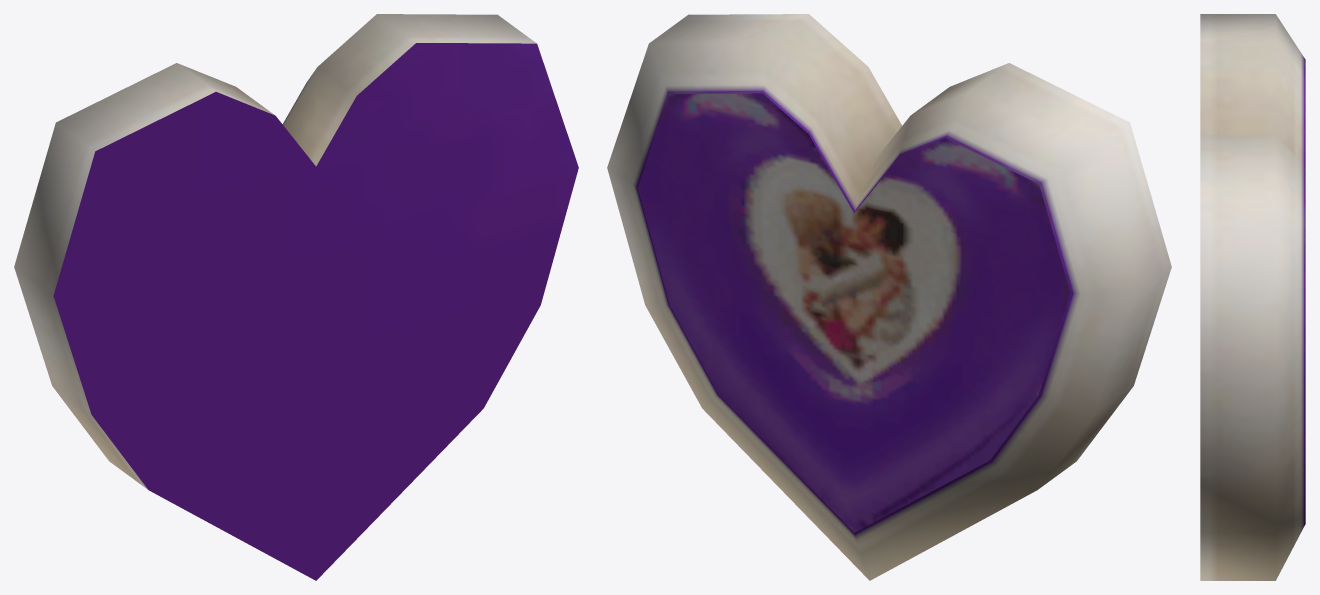
The model's file is furni_0200134_01.FBX.
3 renders of one model, left to right at view 1: azimuth 30°, elevation 25°; view 2: azimuth 150°, elevation 25°; view 3: azimuth 270°, elevation 25°, orthographic. The views are drawn at different scales.
Visible parts, largest first — view 1: furni_0200134_01; view 2: furni_0200134_01; view 3: furni_0200134_01.
Part boxes in pixels (box(x1,y1,x2,y2)): furni_0200134_01: box(14, 14, 578, 580); furni_0200134_01: box(607, 14, 1171, 580); furni_0200134_01: box(1200, 14, 1305, 580).
Size of the model in its own units: 53.73 by 50.2 by 9.74.
Materials: 1 (1 with a texture image).
